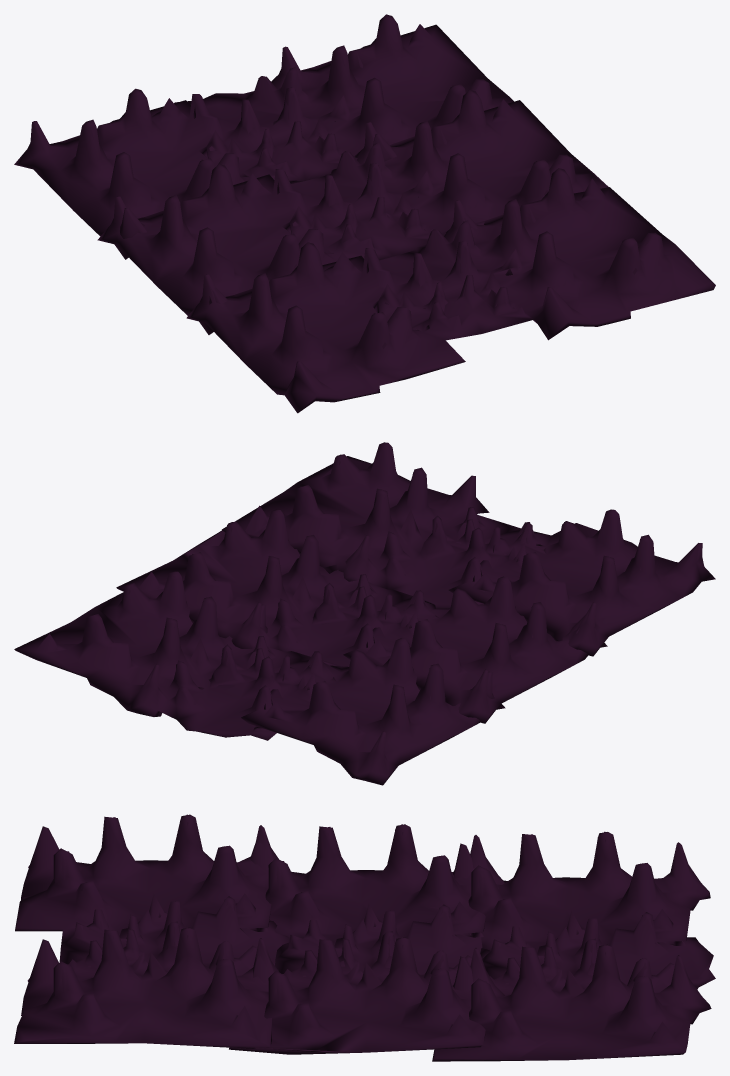
File: floor.glb
The picture shows the model from 3 angles, top to bottom: view 1: azimuth 30°, elevation 25°; view 2: azimuth 150°, elevation 25°; view 3: azimuth 270°, elevation 25°; orthographic projection. The views are drawn at different scales.
Visible parts, largest first — view 1: inst_1.003; view 2: inst_1.003; view 3: inst_1.003.
Part boxes in pixels (x1,y1,x2,y2): inst_1.003: [14, 14, 715, 413]; inst_1.003: [14, 442, 715, 785]; inst_1.003: [14, 814, 715, 1061].
Bounding box in the file's own units: 210 × 38.85 × 271.
